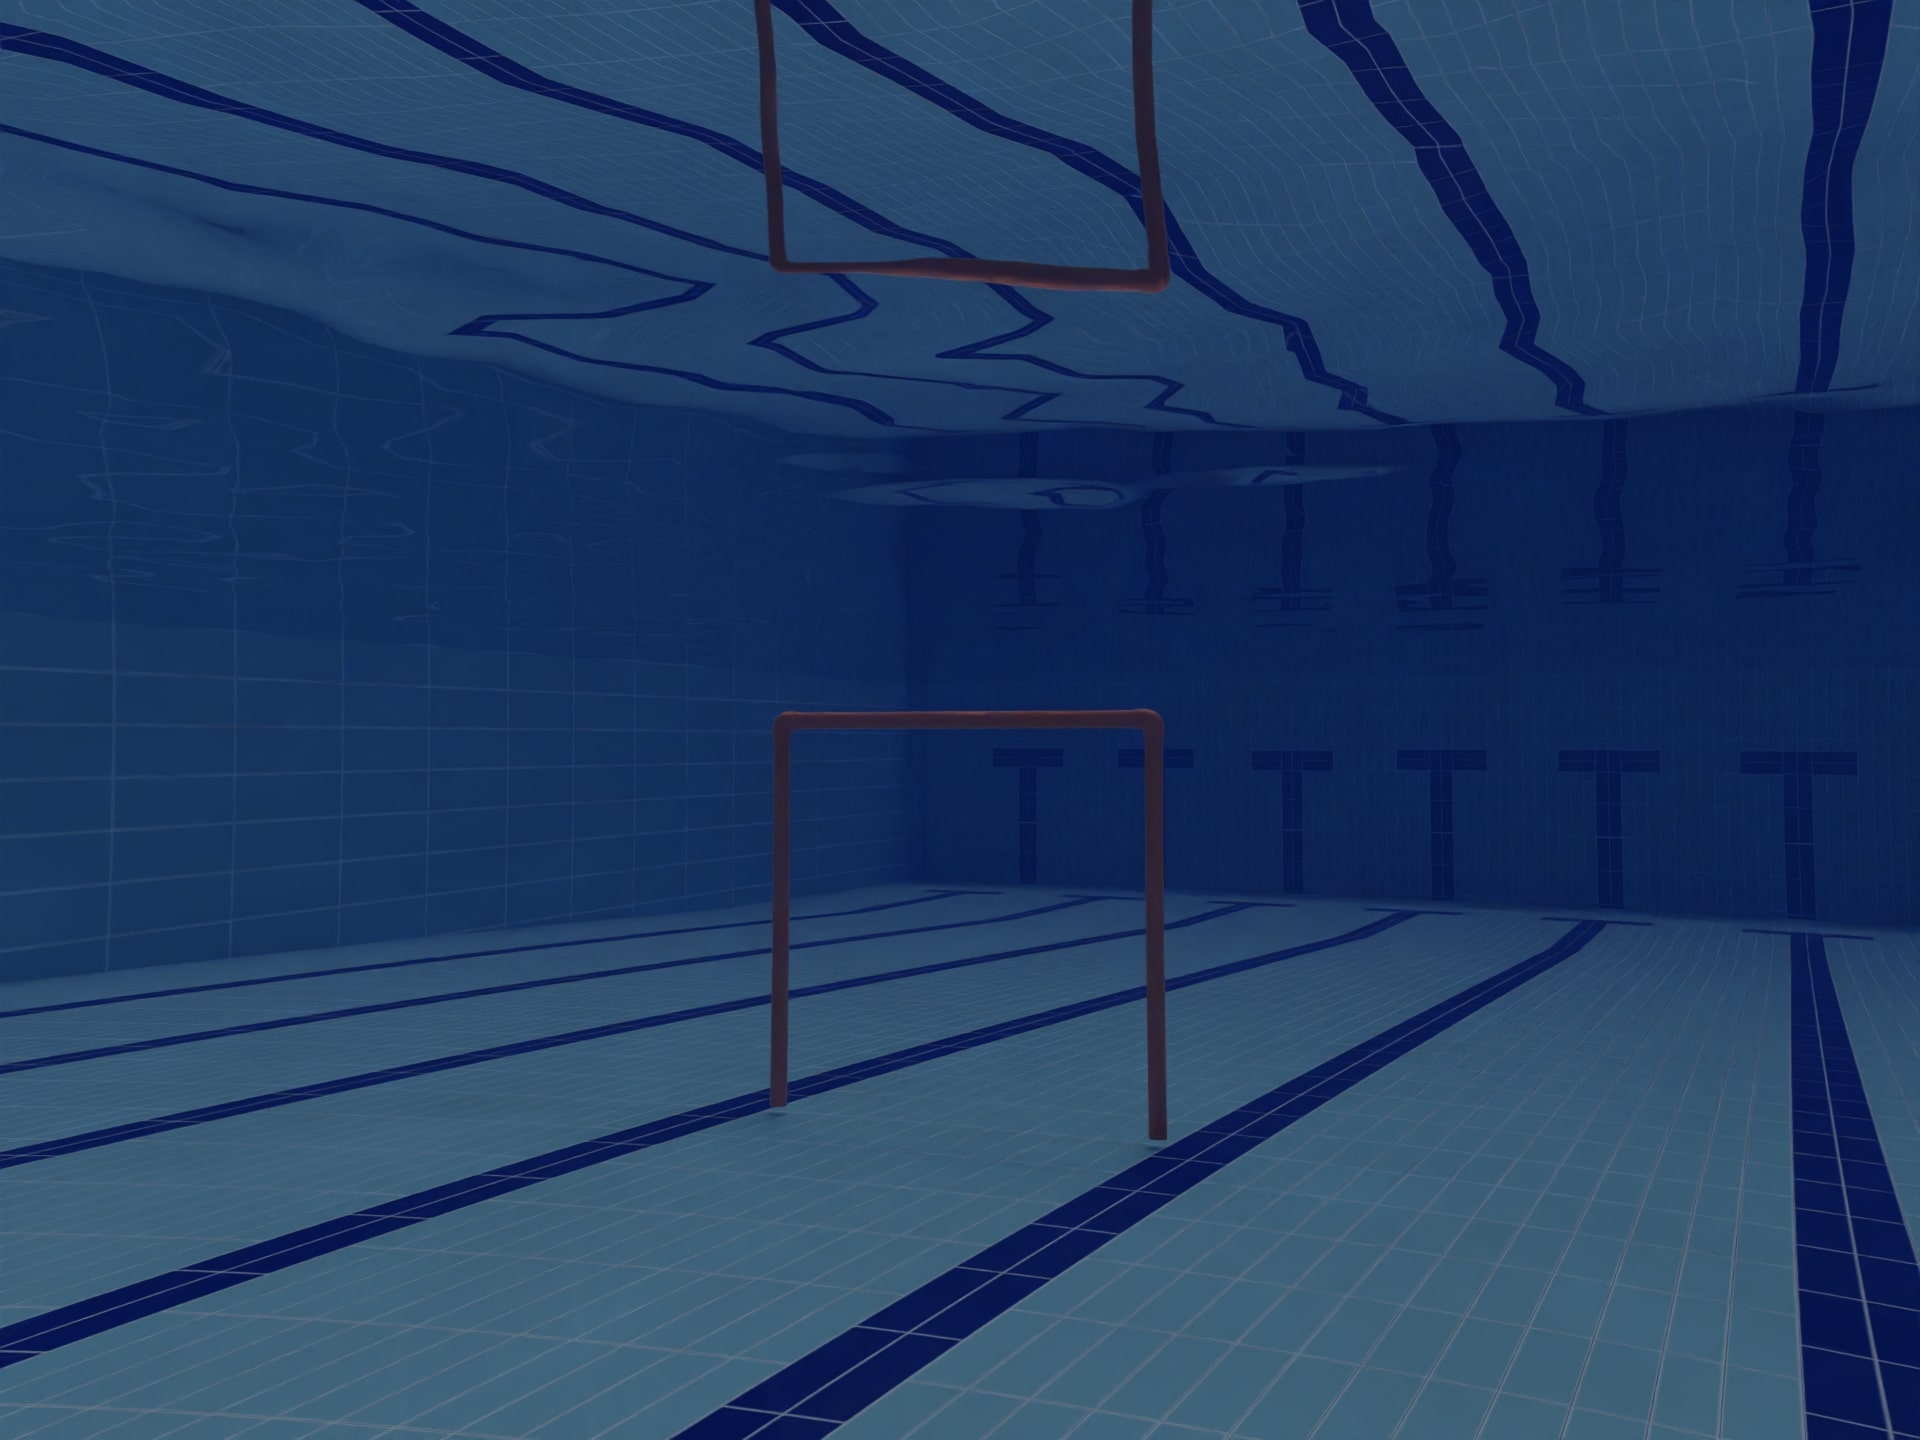gate: (745, 694, 1265, 1177)
